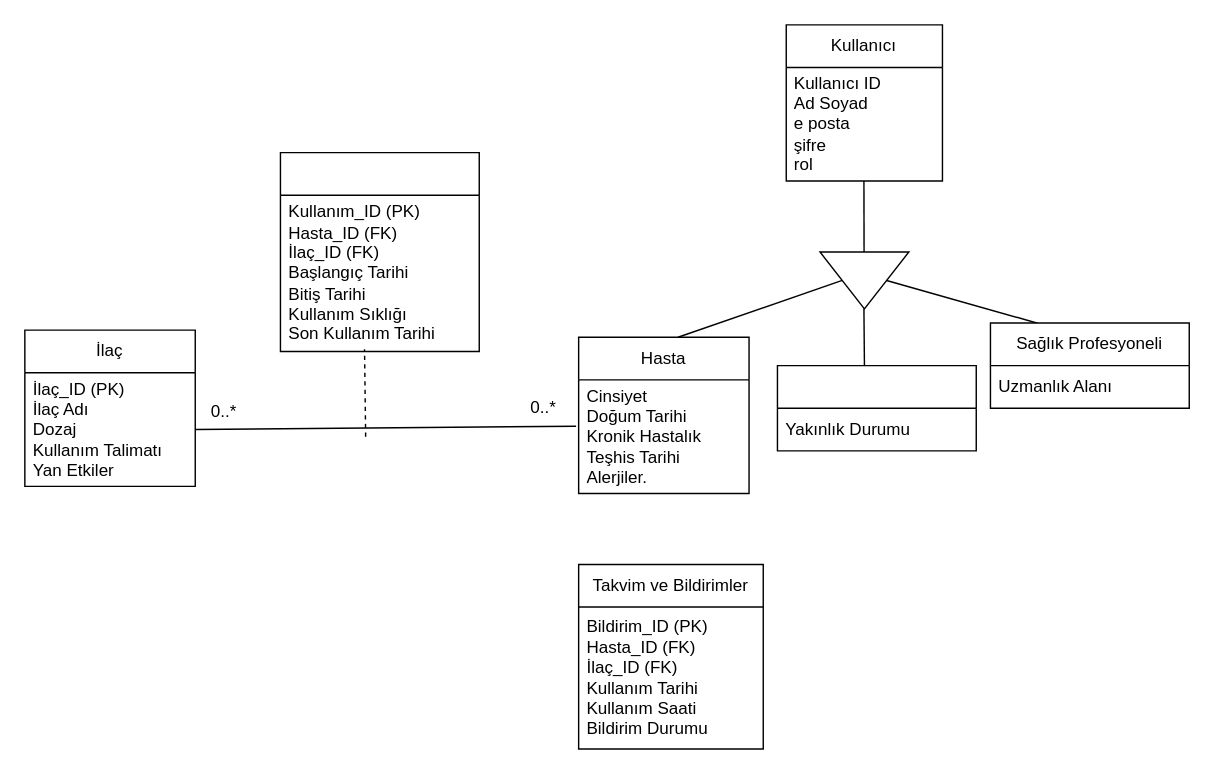
This 1214x774 diagram has some shape labels left out. The box of each missing label's shape, as (x1, y1, x2, y2) in pixels:
Hasta Yakını: (776, 364, 976, 451)
isa: (819, 251, 909, 309)
İlaç Kullanımı: (279, 151, 479, 351)
